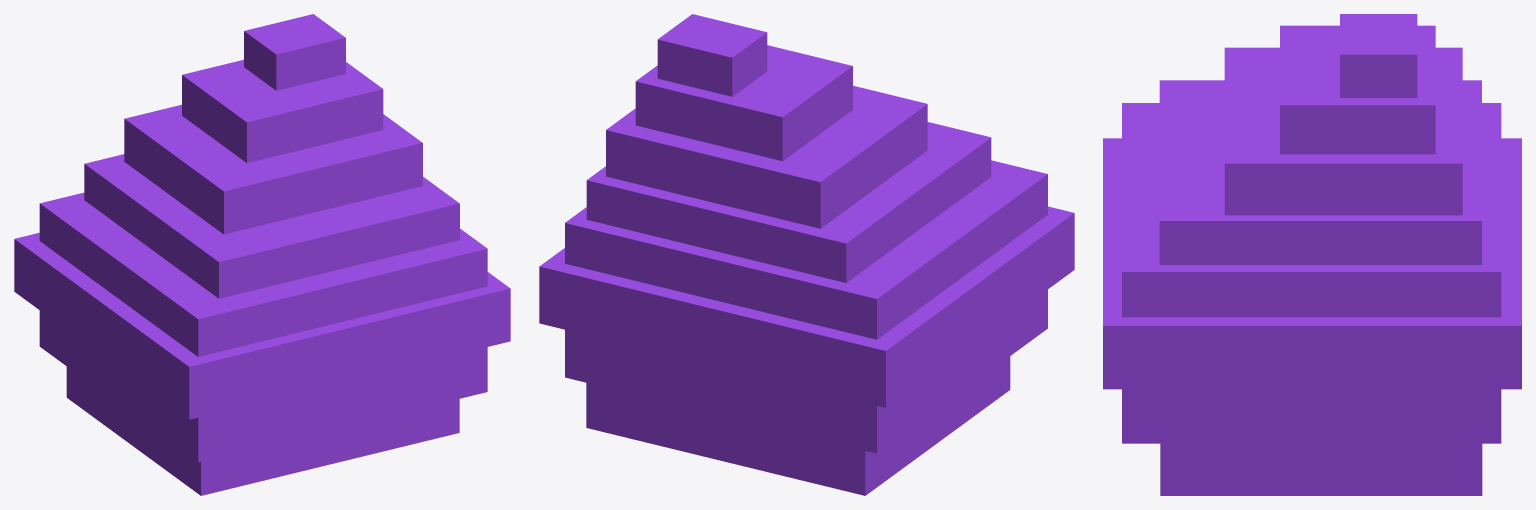
File: 보라색 물방울 2.fbx
The picture shows the model from 3 angles, left to right: view 1: azimuth 30°, elevation 25°; view 2: azimuth 150°, elevation 25°; view 3: azimuth 270°, elevation 25°; orthographic projection. The views are drawn at different scales.
Parts seen in each view (by area): view 1: Box005; view 2: Box005; view 3: Box005.
Part boxes in pixels (x1=…): Box005: x1=14, y1=14, x2=510, y2=495; Box005: x1=539, y1=14, x2=1074, y2=495; Box005: x1=1103, y1=14, x2=1521, y2=495.
Size of the model in its own units: 34.51 by 35.9 by 32.55.
1 material, 1 textured.
